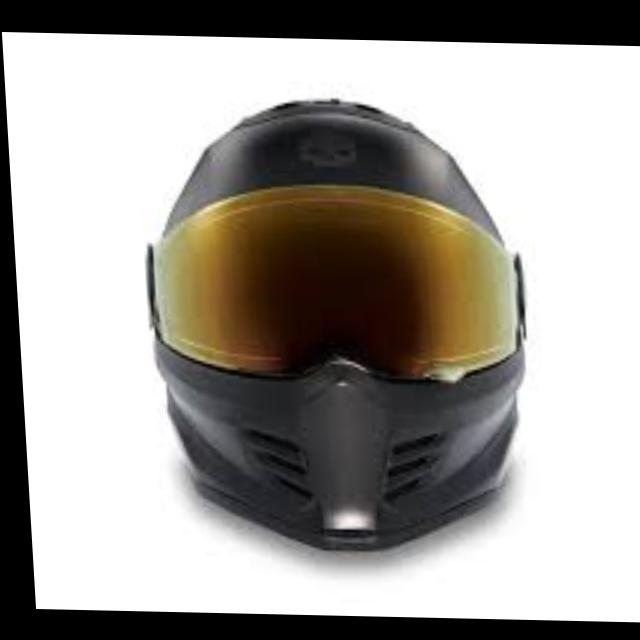motorcycle-helmets: (133, 91, 543, 561)
